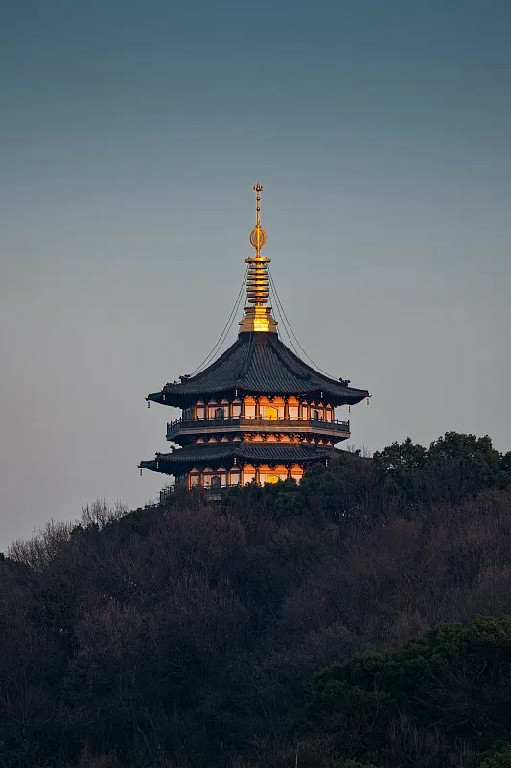Leifeng: (132, 178, 376, 510)
